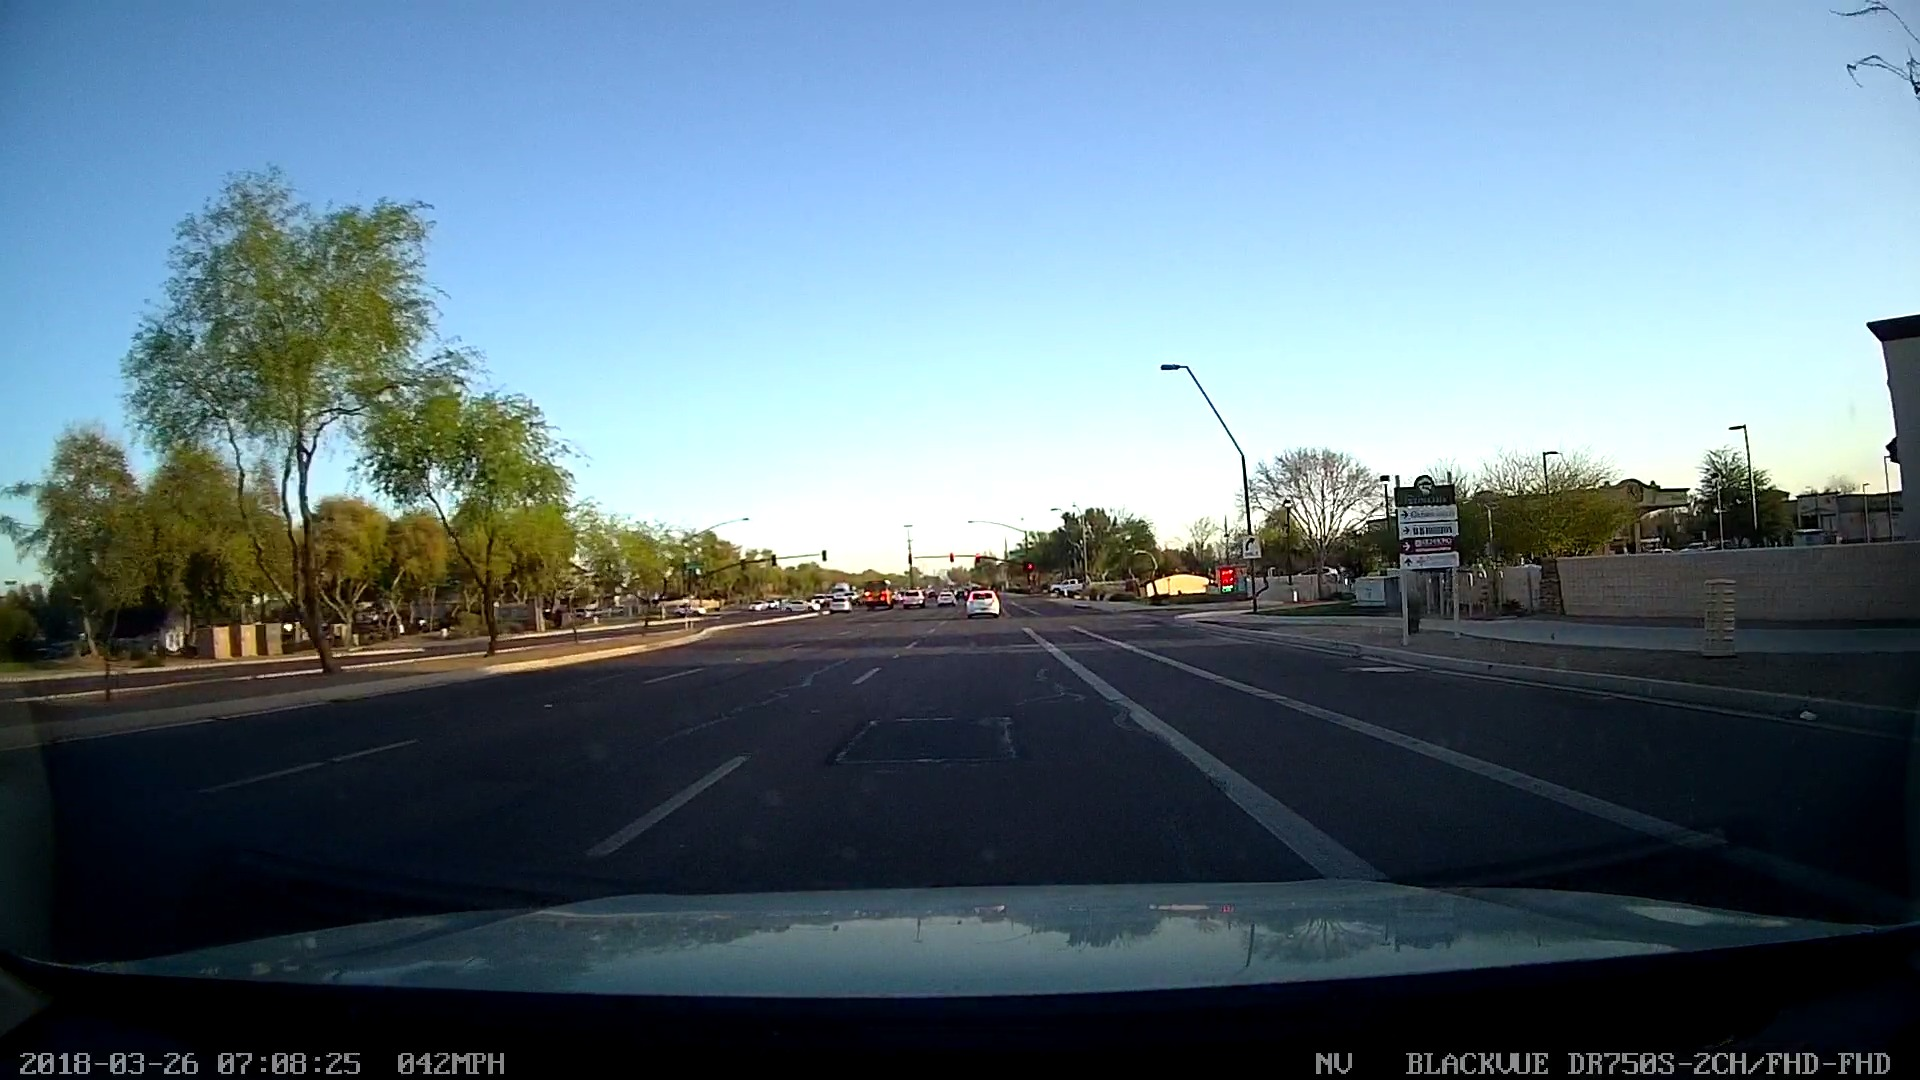vehicle: (955, 579, 1011, 621)
